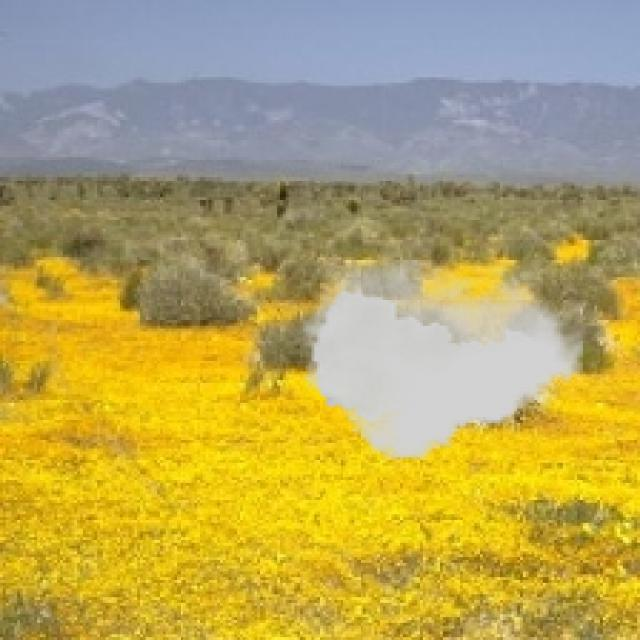smoke: (300, 260, 583, 460)
